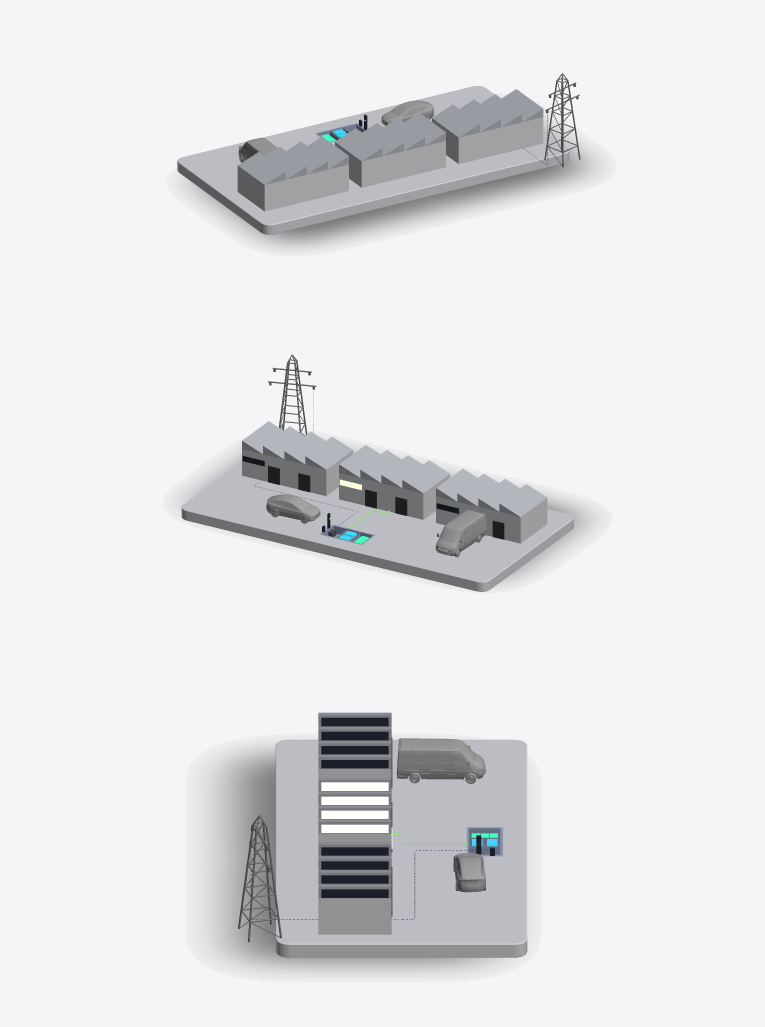
Rendered from sett-scroll-voordeel-netuitval.glb.
3 renders of one model, top to bottom at view 1: azimuth 30°, elevation 25°; view 2: azimuth 150°, elevation 25°; view 3: azimuth 270°, elevation 25°, orthographic. The views are drawn at different scales.
Visible parts, largest first — view 1: building (×3), object 37, contact_shadow, car, van; view 2: object 37, building (×3), van, contact_shadow, car; view 3: object 37, building (×3), contact_shadow, van, car.
Boxes of the visible parts, x1,y1,x2,y2 form: building (×3): (237,89,543,211); object 37: (177,86,569,234); contact_shadow: (191,123,591,245); car: (381,100,433,125); van: (238,137,277,162); object 37: (181,462,573,591); building (×3): (242,421,547,543); van: (435,509,486,557); contact_shadow: (187,451,587,580); car: (266,494,320,523); object 37: (275,739,527,957); building (×3): (318,712,392,934); contact_shadow: (216,748,492,969); van: (396,738,485,783); car: (453,853,485,892).
Size of the model in its own units: 4427 by 874 by 4427.
20 materials, 1 textured.
